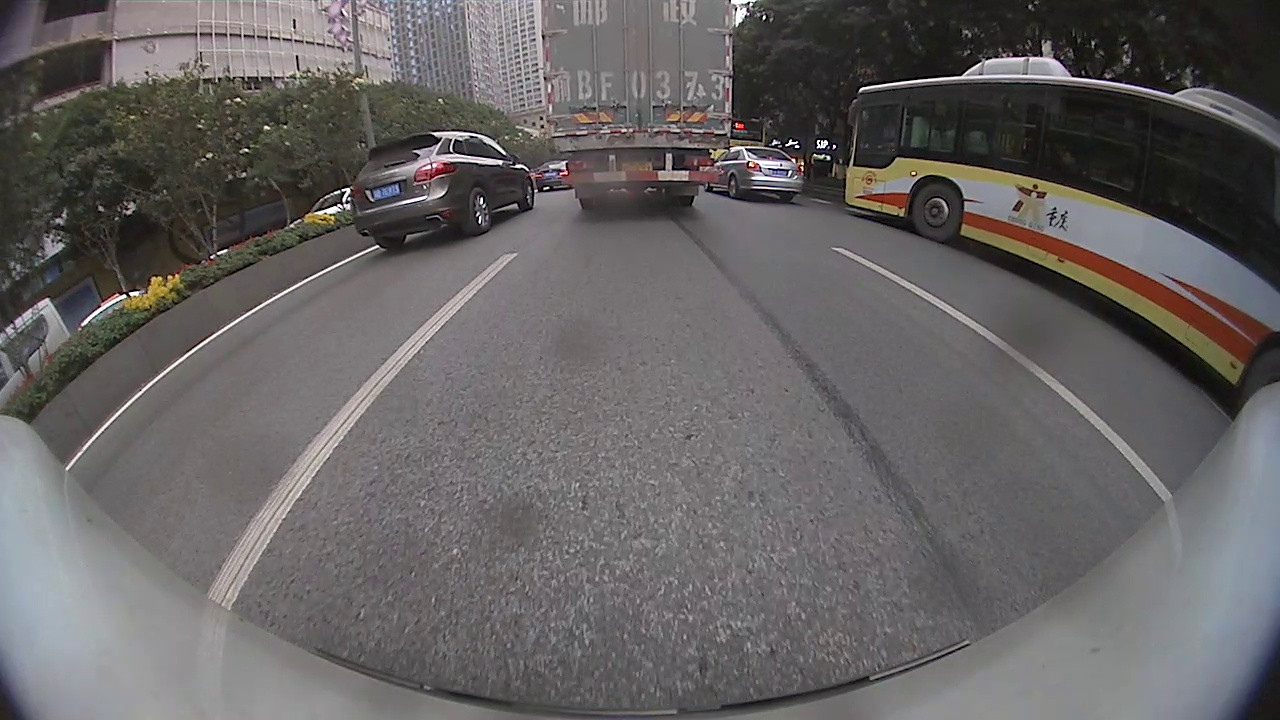bus: (841, 60, 1279, 411)
car: (345, 130, 536, 254), (706, 147, 805, 205)
front: (910, 179, 964, 243), (517, 179, 535, 211)
rear: (463, 187, 492, 237), (727, 174, 742, 199)
truck: (541, 0, 733, 209)
